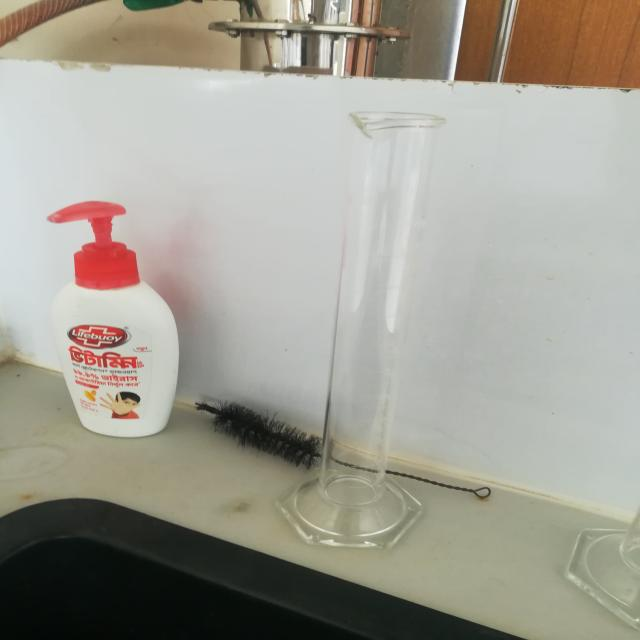Measuring_Cylinder: (250, 68, 483, 573)
